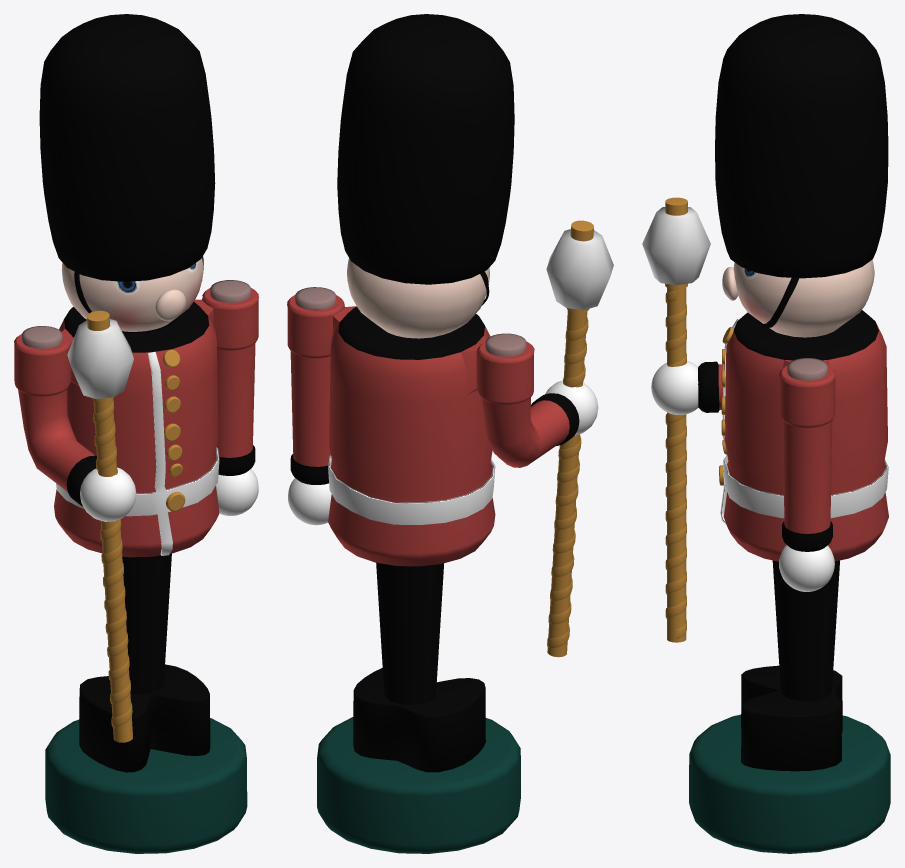
File: notnappare.fbx
3 renders of one model, left to right at view 1: azimuth 30°, elevation 25°; view 2: azimuth 150°, elevation 25°; view 3: azimuth 270°, elevation 25°, orthographic.
Parts seen in each view (by area): view 1: hat, body, buttom, feet, legs, head, stick, strips, accecory, accecory2, hand_R, hand_R1 (+1 smaller); view 2: body, hat, buttom, feet, legs, head, stick, strips, accecory, accecory2, hand_R1, hand_R; view 3: hat, body, buttom, feet, legs, head, stick, accecory, strips, accecory2, hand_R, hand_R1.
Part boxes in pixels (<box>): hat: <box>39,14,215,281</box>; body: <box>14,280,258,557</box>; buttom: <box>45,718,247,853</box>; feet: <box>79,664,210,772</box>; legs: <box>122,553,171,694</box>; head: <box>61,257,203,331</box>; stick: <box>87,310,132,742</box>; strips: <box>56,351,219,555</box>; accecory: <box>67,319,133,399</box>; accecory2: <box>93,399,132,727</box>; hand_R: <box>80,467,136,521</box>; hand_R1: <box>216,469,258,515</box>; body: <box>287,287,579,566</box>; hat: <box>337,14,514,284</box>; buttom: <box>317,717,520,853</box>; feet: <box>353,668,485,772</box>; legs: <box>376,562,443,704</box>; head: <box>347,258,489,338</box>; stick: <box>547,220,593,657</box>; strips: <box>328,455,495,524</box>; accecory: <box>546,229,613,310</box>; accecory2: <box>547,316,588,647</box>; hand_R1: <box>288,478,331,525</box>; hand_R: <box>545,380,598,435</box>; hat: <box>715,14,888,278</box>; body: <box>698,310,888,561</box>; buttom: <box>689,714,890,853</box>; feet: <box>741,665,842,771</box>; legs: <box>772,560,839,701</box>; head: <box>733,259,874,337</box>; stick: <box>665,197,687,642</box>; accecory: <box>642,207,710,285</box>; strips: <box>720,319,888,525</box>; accecory2: <box>665,290,686,639</box>; hand_R: <box>651,360,698,414</box>; hand_R1: <box>779,545,834,591</box>.
Size of the model in its own units: 1.95 by 5.88 by 1.69.
